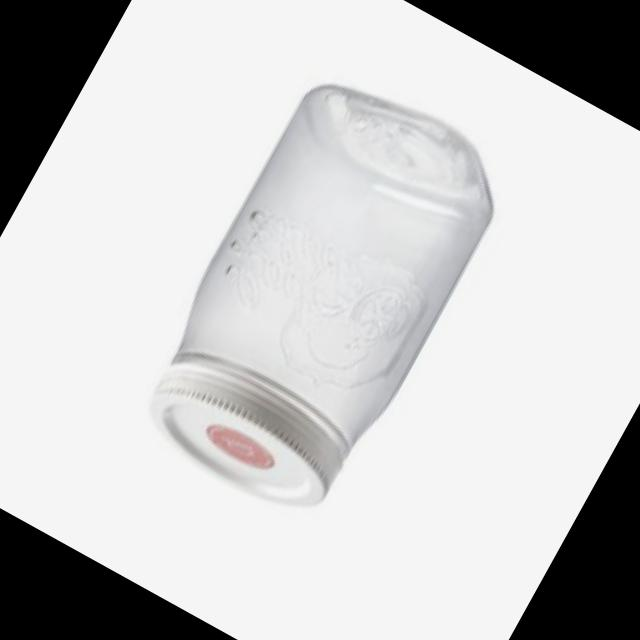ToplesKaca: (115, 56, 524, 538)
